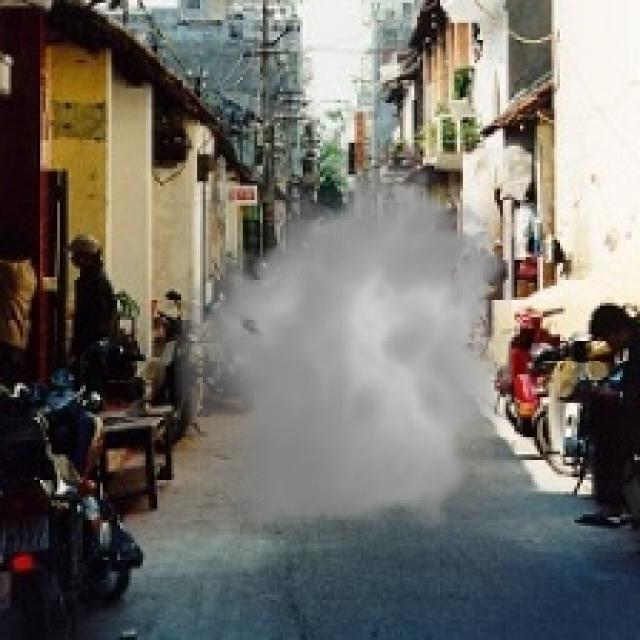Smoke: (162, 146, 528, 548)
